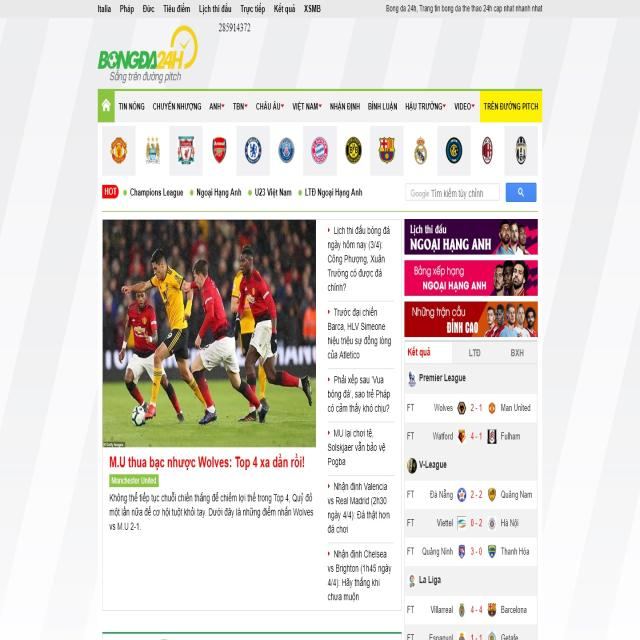button: (480, 90, 542, 122), (148, 89, 204, 123), (401, 90, 448, 122), (287, 89, 326, 122), (326, 90, 364, 122), (252, 90, 288, 122), (364, 90, 401, 121), (114, 90, 148, 122), (448, 91, 480, 122), (405, 342, 453, 362), (453, 342, 496, 364), (496, 342, 536, 364), (204, 90, 229, 122), (229, 89, 252, 121), (197, 1, 233, 18), (161, 0, 193, 19), (98, 89, 114, 121), (506, 184, 536, 201), (239, 0, 268, 17), (272, 0, 298, 17), (116, 0, 137, 21), (95, 0, 114, 19), (139, 1, 157, 19)
field: (406, 185, 499, 202)
heading: (109, 454, 306, 470), (418, 370, 467, 385)
iframe: (404, 260, 537, 297), (405, 302, 538, 339), (405, 219, 538, 255)
image: (103, 218, 316, 447), (96, 21, 199, 84), (175, 134, 196, 168), (143, 134, 164, 167), (109, 134, 128, 166), (310, 136, 330, 166), (343, 134, 362, 165), (378, 134, 396, 166), (244, 135, 262, 166), (211, 134, 228, 166), (278, 134, 295, 166), (445, 136, 463, 166), (412, 135, 428, 167), (514, 136, 528, 166), (481, 136, 494, 165), (407, 458, 418, 474), (487, 428, 497, 445), (458, 427, 467, 445), (487, 544, 497, 560), (408, 371, 417, 388), (487, 516, 497, 531), (458, 487, 467, 503), (488, 487, 497, 503), (488, 602, 497, 618), (458, 516, 467, 531), (457, 401, 466, 415), (458, 544, 465, 560), (409, 574, 416, 588), (459, 602, 465, 618), (458, 631, 468, 640), (488, 402, 496, 413), (488, 632, 496, 640)
label: (410, 188, 486, 200)
text: (109, 492, 314, 534), (328, 224, 392, 292), (327, 547, 392, 606), (326, 306, 392, 362), (328, 480, 390, 536), (327, 373, 391, 416), (328, 427, 388, 469), (386, 3, 544, 13), (302, 184, 366, 199), (130, 187, 184, 200), (196, 186, 242, 200), (109, 474, 158, 487), (255, 187, 292, 200), (218, 21, 252, 34), (500, 402, 532, 415), (418, 458, 448, 471), (500, 489, 532, 501), (500, 545, 530, 557), (429, 488, 454, 502), (422, 547, 454, 557), (499, 430, 522, 443), (433, 401, 454, 415), (430, 604, 454, 616), (432, 430, 454, 443), (501, 605, 528, 615), (501, 516, 519, 530), (428, 632, 454, 640), (469, 402, 485, 414), (437, 518, 454, 528), (501, 632, 522, 640), (470, 430, 483, 442), (470, 517, 483, 529), (469, 488, 483, 499), (470, 603, 482, 614), (470, 546, 483, 556), (406, 487, 415, 501), (406, 430, 416, 441), (407, 604, 415, 616), (407, 517, 415, 528), (407, 546, 415, 557), (471, 632, 482, 640), (407, 403, 415, 413), (407, 631, 414, 640)
